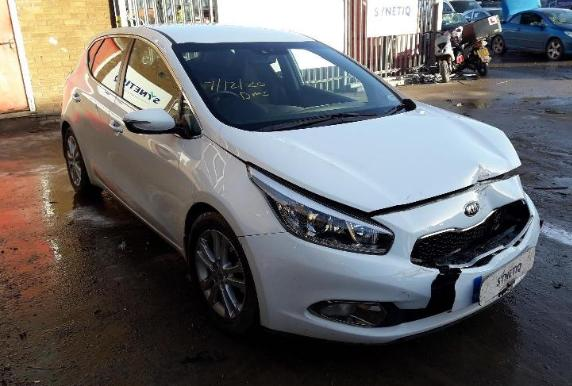Back-door: (64, 33, 134, 185)
Back-wheel: (65, 125, 103, 195)
Fender: (175, 135, 285, 250)
Front-bumper: (237, 175, 540, 343)
Front-door: (106, 35, 204, 242)
Front-wheel: (188, 211, 258, 334)
Headlight: (248, 164, 396, 255)
Hood: (214, 99, 522, 213)
License-plate: (480, 247, 534, 305)
Mirror: (124, 108, 199, 135)
Quarter-panel: (61, 72, 77, 157)
Rocker-panel: (87, 167, 185, 259)
Roof: (118, 22, 316, 43)
Windshield: (170, 40, 412, 131)
